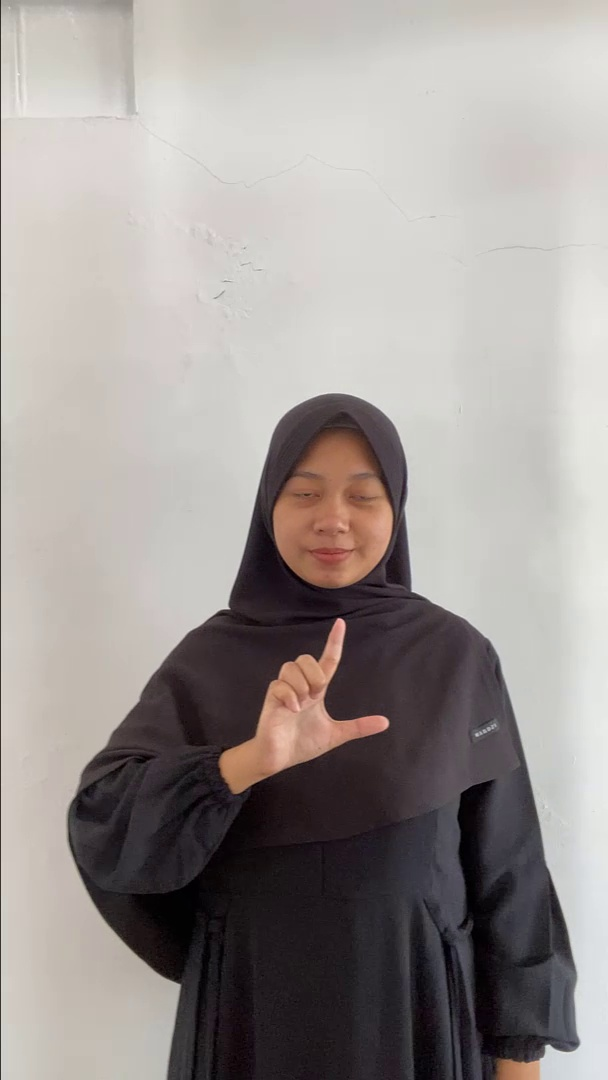SELASA: (217, 607, 400, 807)
